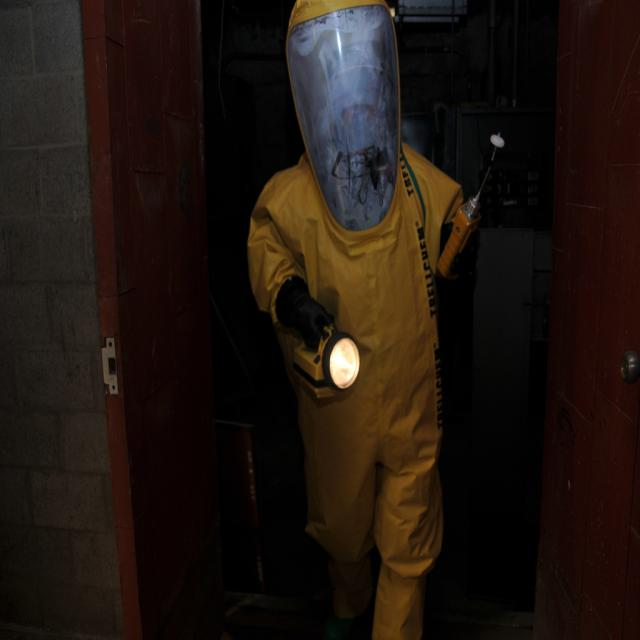no_fire: (182, 45, 517, 640)
